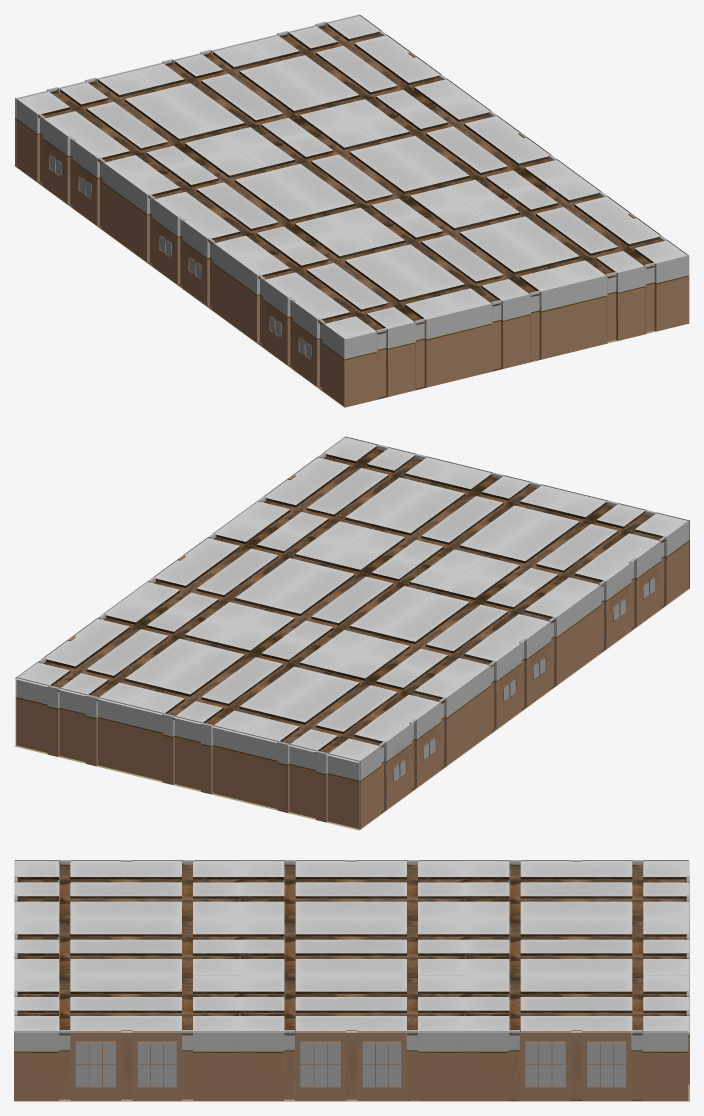
Rendered from Mall.fbx.
3 renders of one model, top to bottom at view 1: azimuth 30°, elevation 25°; view 2: azimuth 150°, elevation 25°; view 3: azimuth 270°, elevation 25°, orthographic. The views are drawn at different scales.
Parts seen in each view (by area): view 1: atap, dinding; view 2: atap, dinding, lantai; view 3: atap, dinding, kaca, lantai.
Part boxes in pixels (x1=…): atap: x1=16, y1=14, x2=689, y2=339; dinding: x1=15, y1=14, x2=689, y2=407; atap: x1=14, y1=437, x2=687, y2=762; dinding: x1=15, y1=436, x2=689, y2=829; lantai: x1=14, y1=588, x2=689, y2=830; atap: x1=14, y1=861, x2=689, y2=1035; dinding: x1=14, y1=860, x2=689, y2=1100; kaca: x1=75, y1=1042, x2=625, y2=1087; lantai: x1=14, y1=1084, x2=689, y2=1101.
Size of the model in its own units: 3900 by 734 by 6451.
